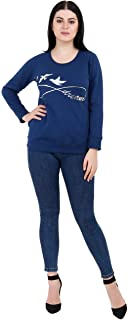tshirt: (1, 46, 109, 162)
